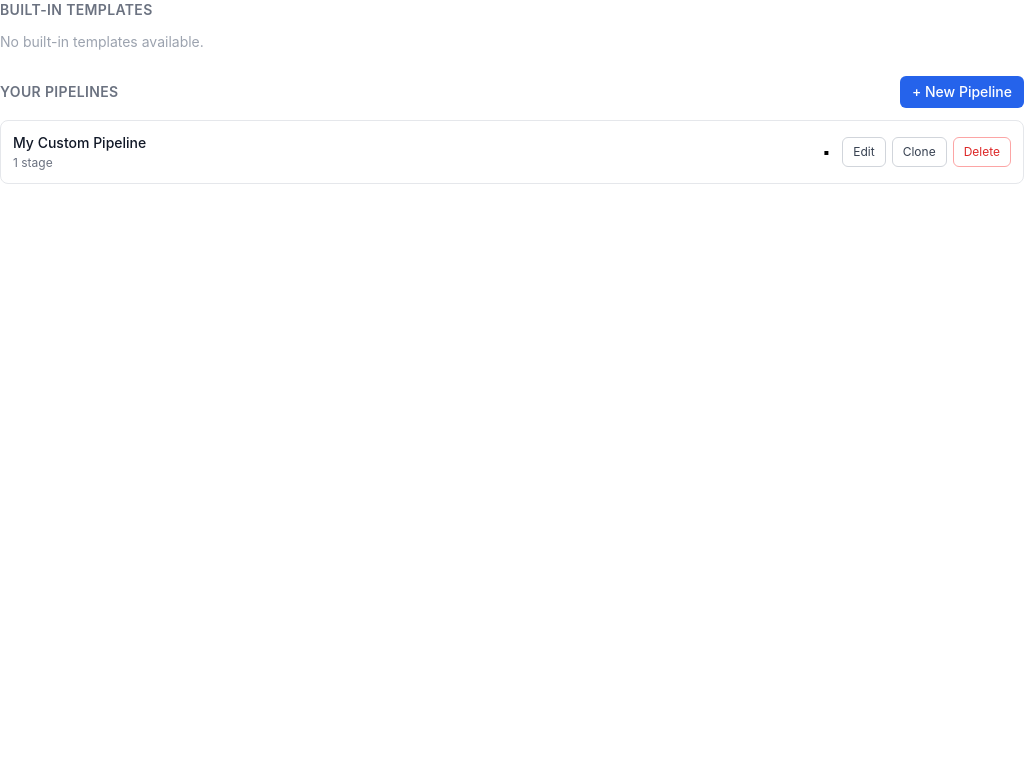
Test case: PipelineLibrarySection — delete flow › clicking Delete opens confirmation modal with pipeline name
Click the button "Delete": click(982, 152) top-left (953, 137), bottom-right (1011, 167)
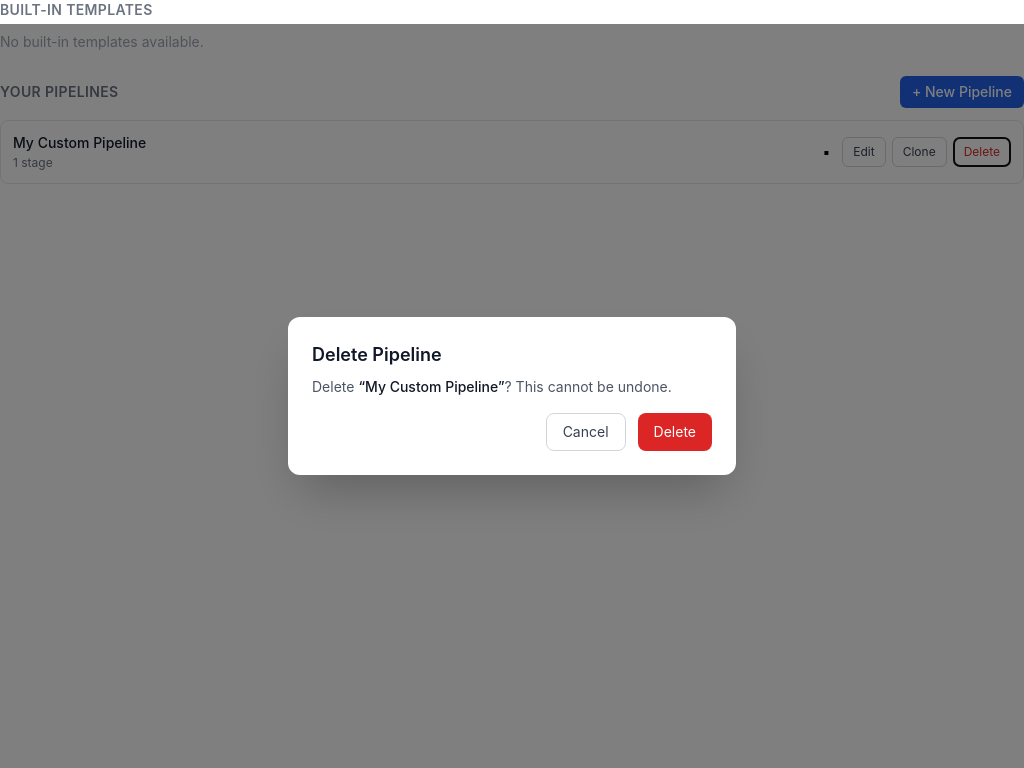
Check: the dialog is shown
Check: the text "Delete “My Custom Pipeline”? This cannot be undone." is shown, box top-left (312, 377), bottom-right (712, 397)
Check: the text "“My Custom Pipeline”" is shown, box top-left (358, 378), bottom-right (504, 395)
